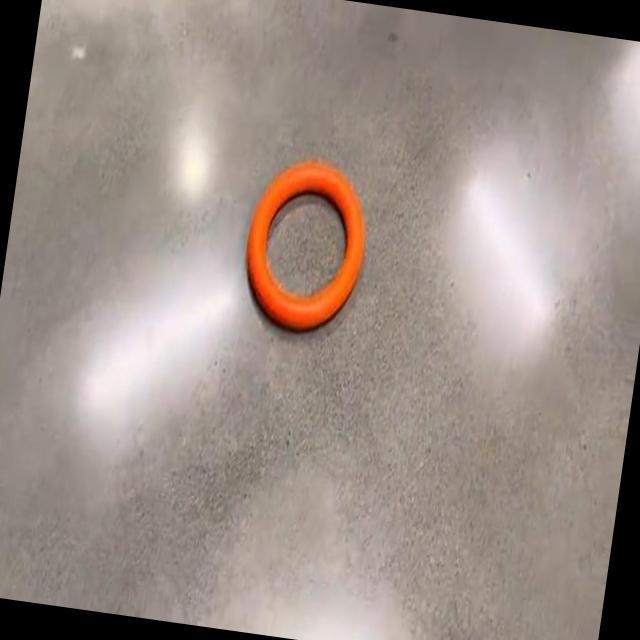note: (247, 162, 365, 330)
